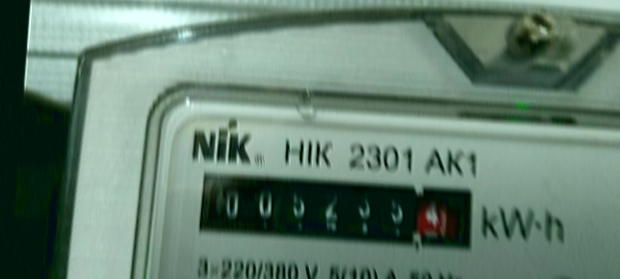0: (255, 186, 278, 220), (223, 188, 244, 220)
2: (321, 188, 345, 224)
3: (354, 188, 380, 223)
4: (422, 194, 447, 231)
5: (387, 190, 412, 228), (290, 187, 311, 221)
screen: (182, 156, 490, 265)
